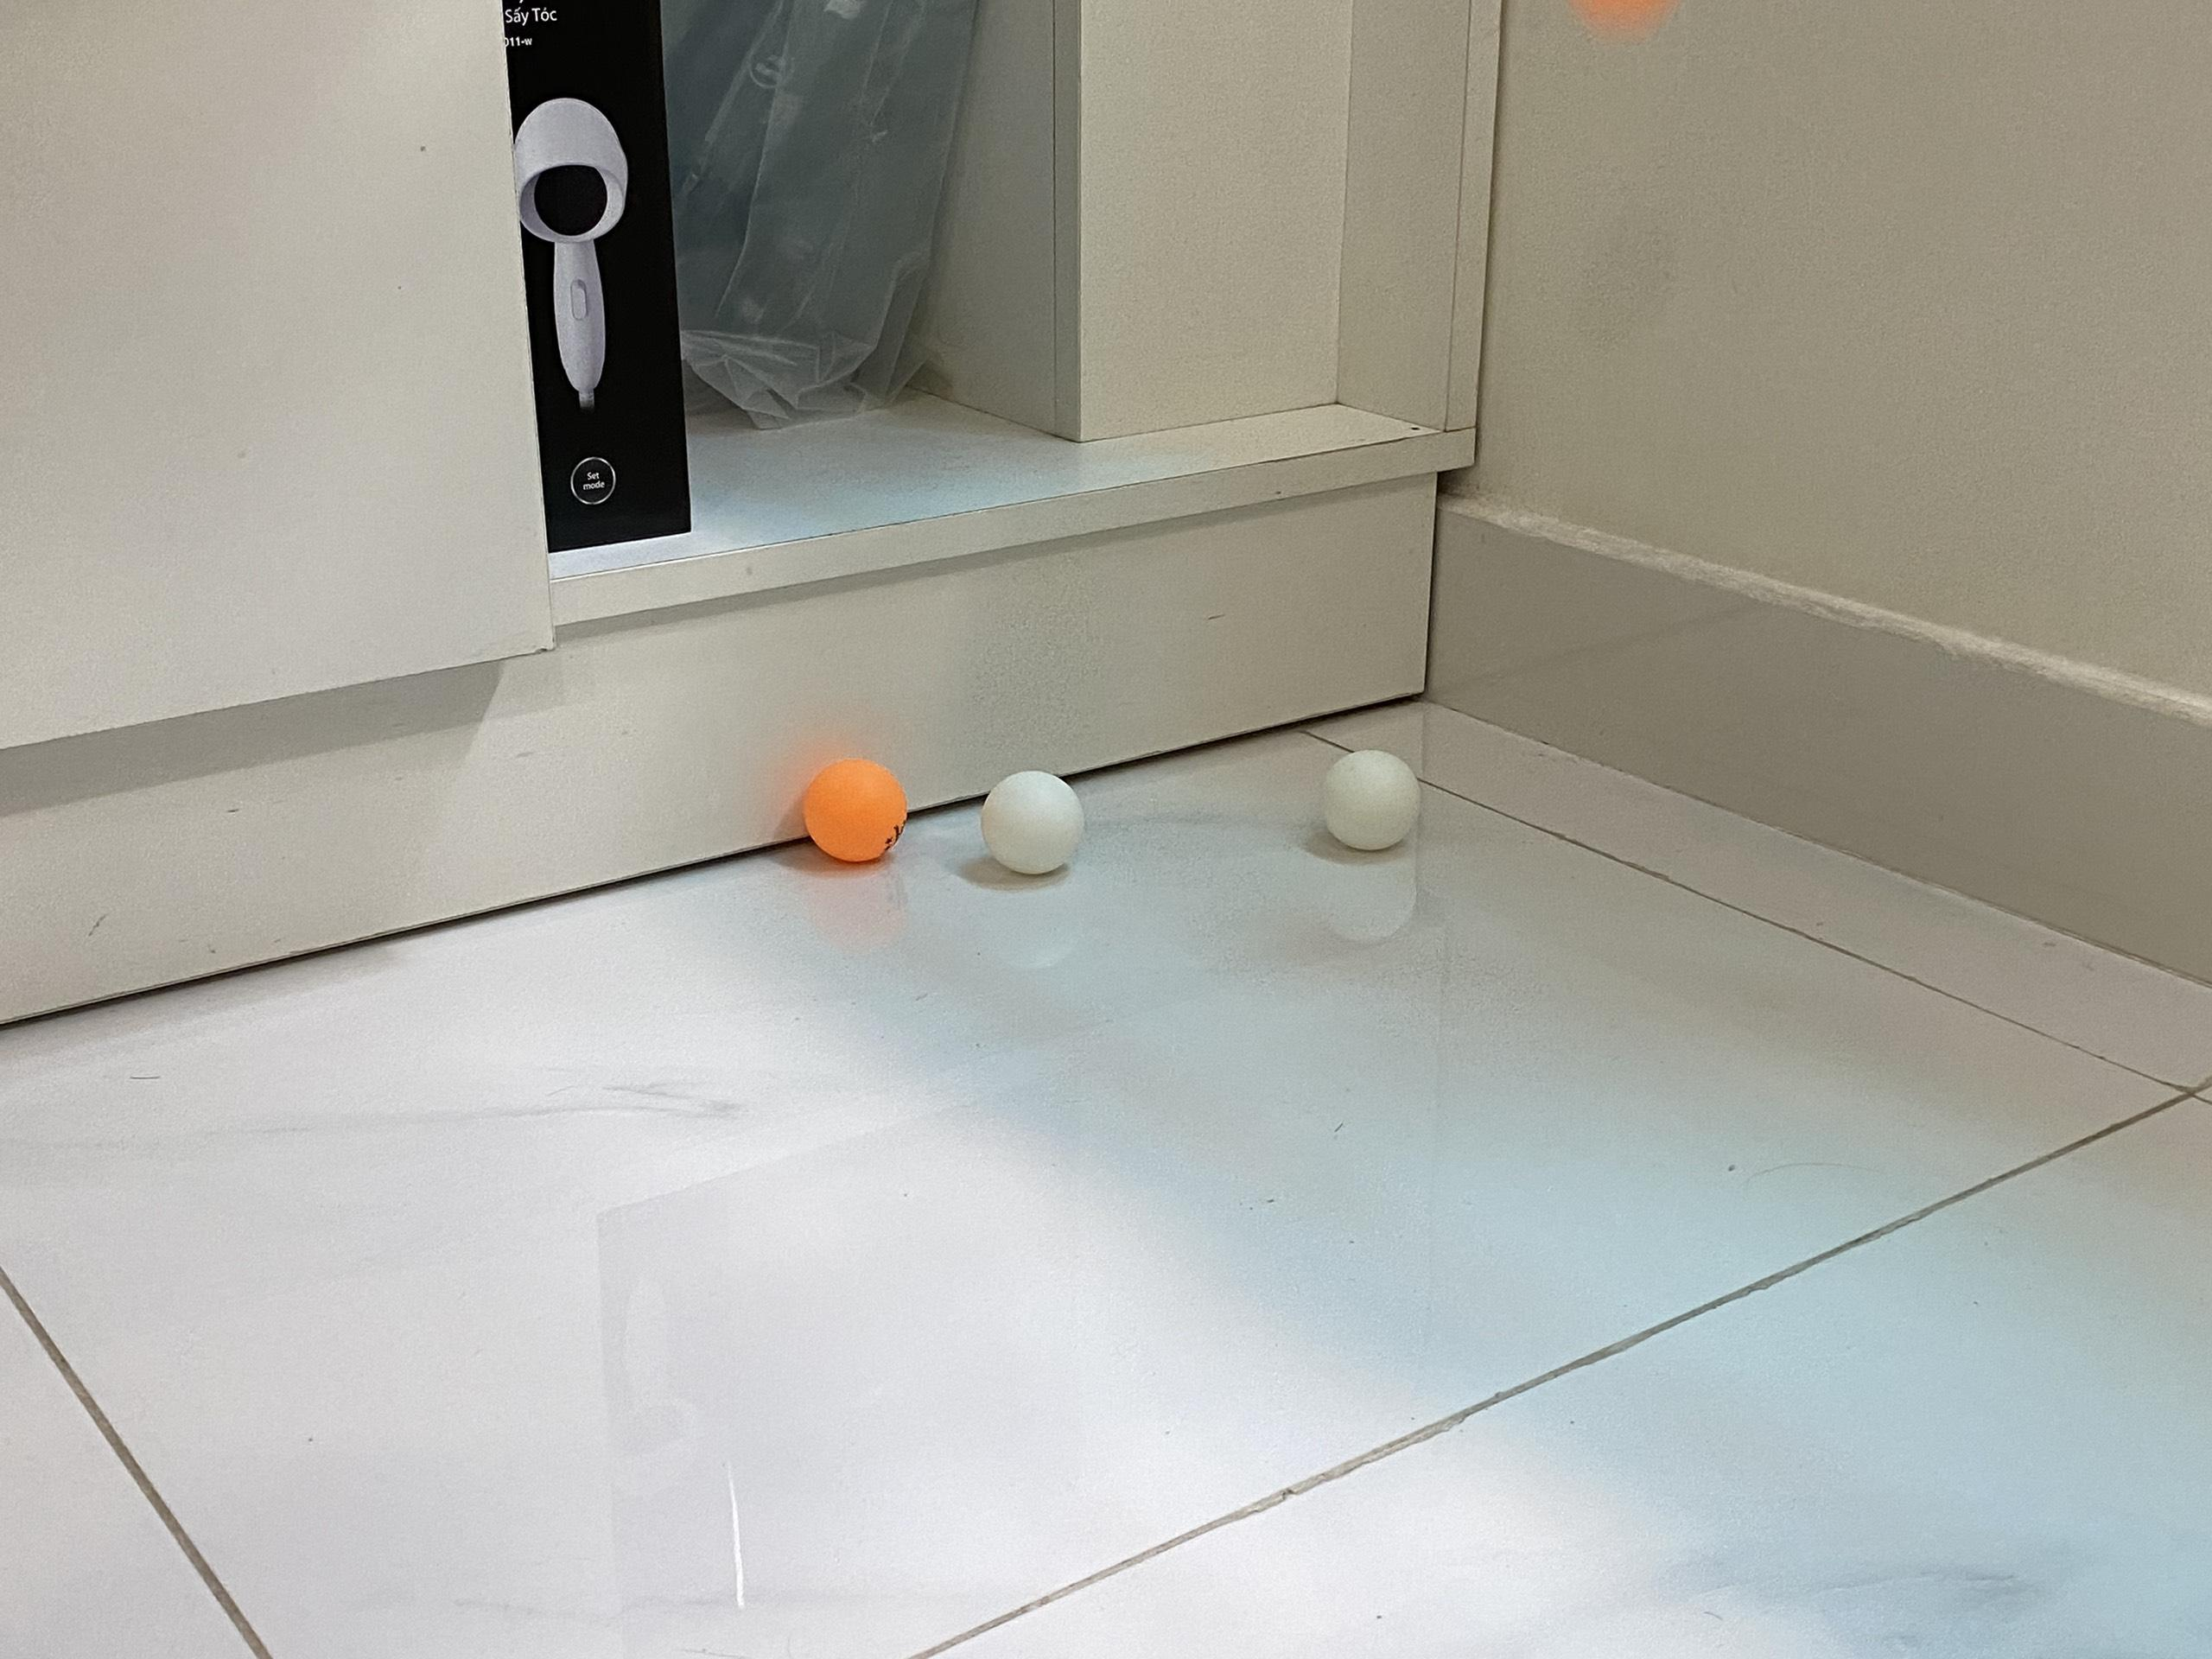oball: (801, 756, 911, 856)
